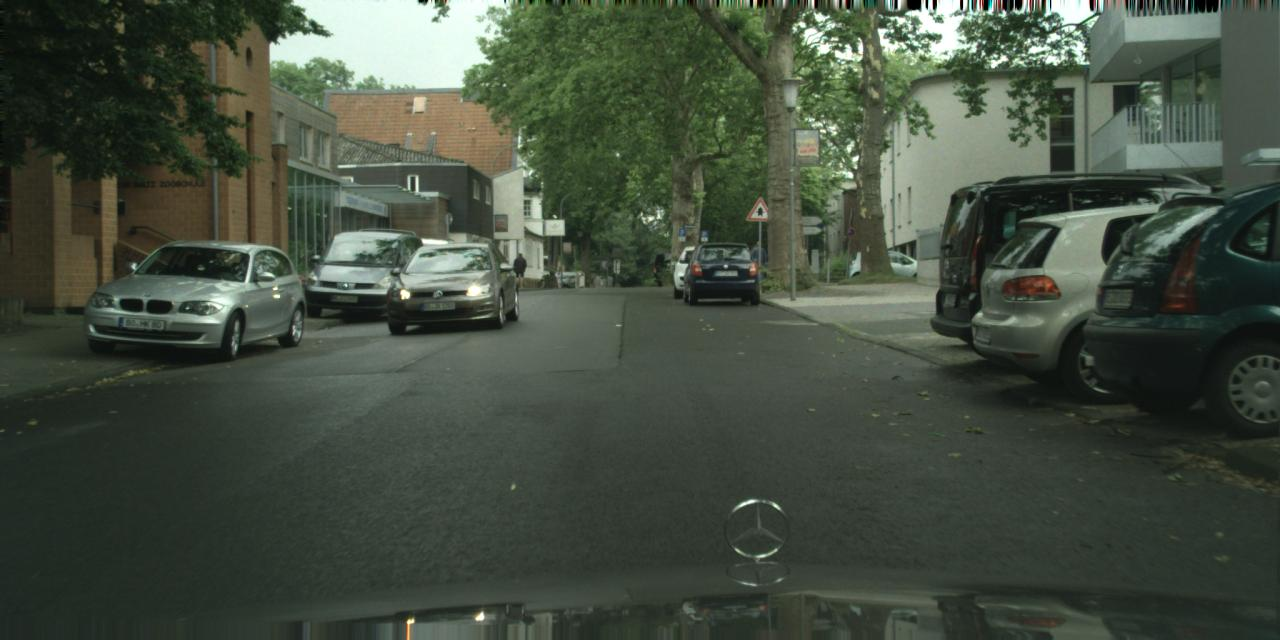ped: (750, 240, 768, 286), (512, 253, 526, 287), (595, 273, 601, 288), (607, 273, 612, 287), (589, 276, 594, 286)
